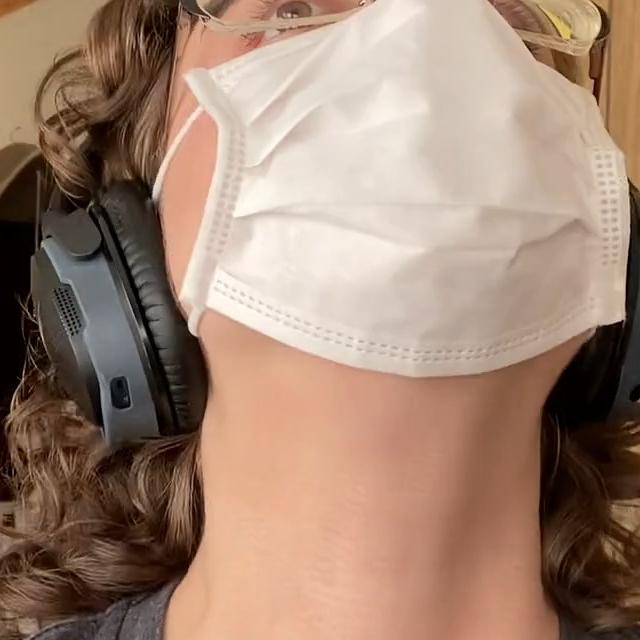Mask: (129, 0, 634, 382)
Person: (0, 0, 640, 640)
